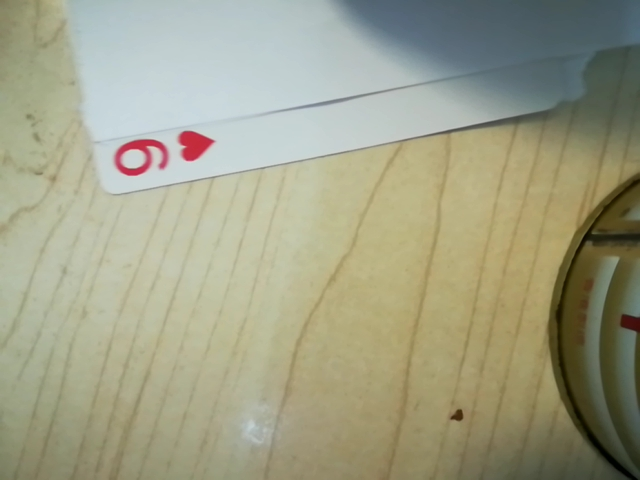hx 9: (101, 126, 213, 187)
